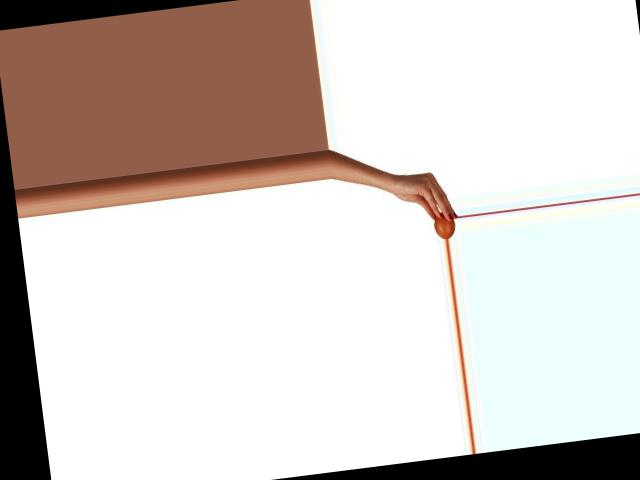egg: (432, 211, 456, 239)
